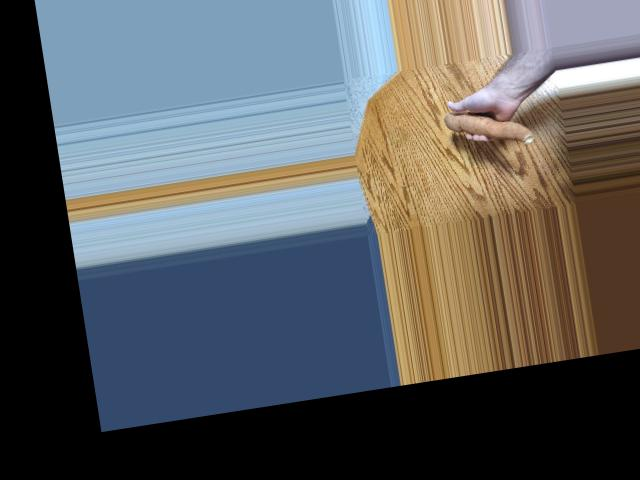sweet_potato: (443, 100, 537, 155)
